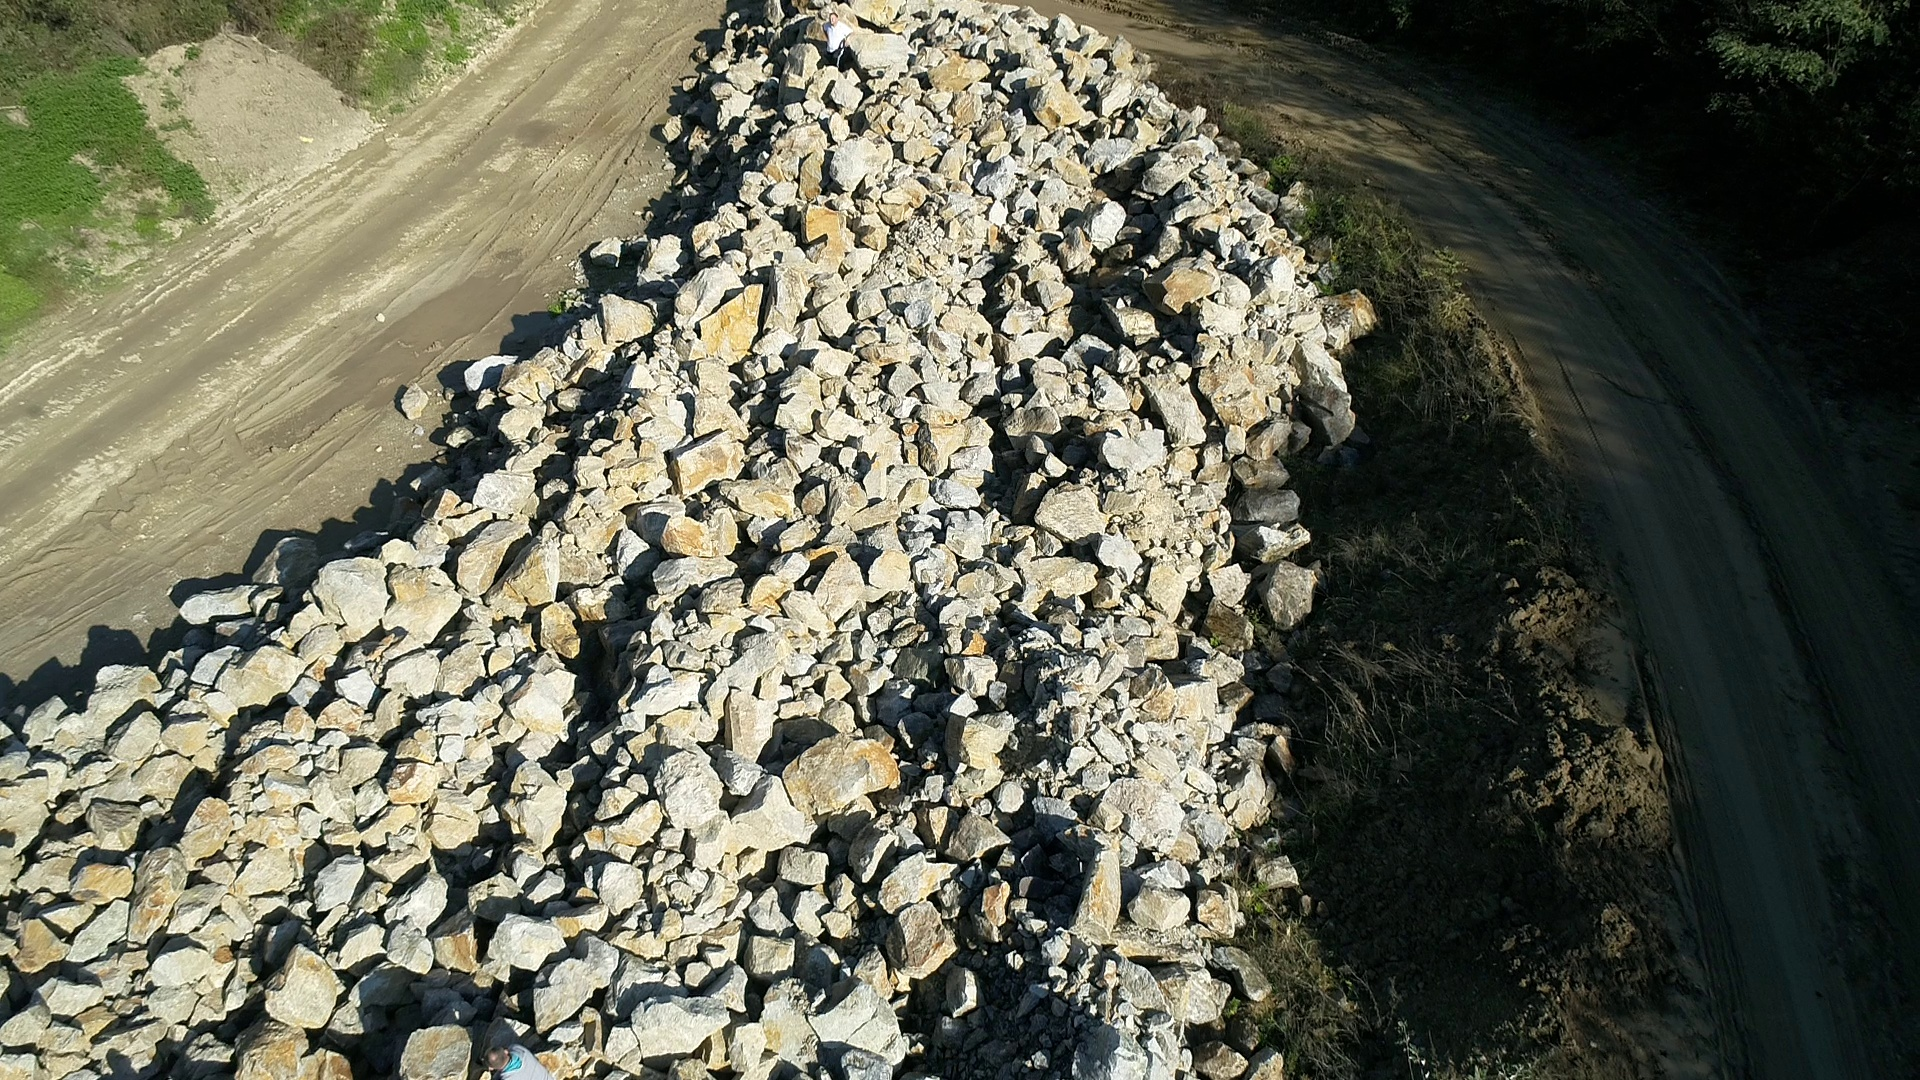not_defined: (484, 1042, 555, 1080)
person: (820, 11, 855, 70)
